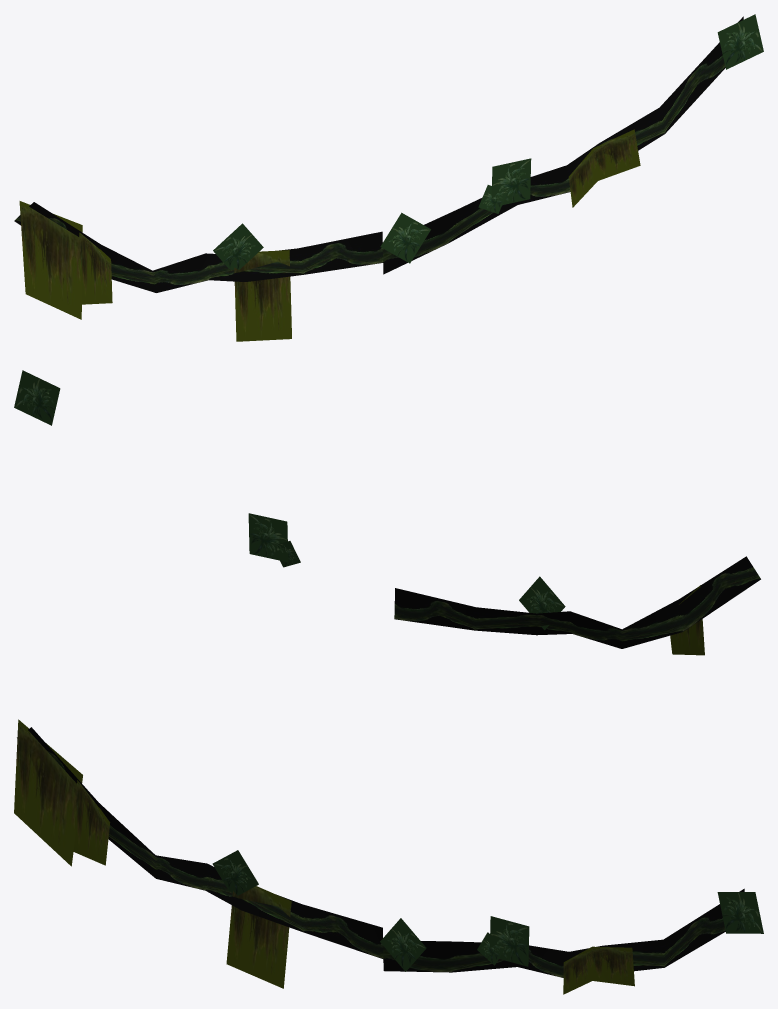
Rendered from jungle_vine_b_200.fbx.
The picture shows the model from 3 angles, top to bottom: view 1: azimuth 30°, elevation 25°; view 2: azimuth 150°, elevation 25°; view 3: azimuth 330°, elevation 25°; orthographic projection.
Visible parts, largest first — view 1: vine, vine2, vine4, vine1, boss, vine3, pPlane16, pPlane14, pPlane11, pPlane15; view 2: vine, pPlane16, pPlane14, pPlane15, vine3; view 3: vine, vine2, vine4, vine1, boss, vine3, pPlane16, pPlane14, pPlane11, pPlane15.
Boxes of the visible parts, left/top/right/bottom form: vine: left=14, top=202, right=383, bottom=292; vine2: left=383, top=16, right=743, bottom=274; vine4: left=19, top=201, right=82, bottom=319; vine1: left=234, top=250, right=291, bottom=341; boss: left=568, top=129, right=640, bottom=207; vine3: left=79, top=230, right=112, bottom=304; pPlane16: left=717, top=14, right=763, bottom=69; pPlane14: left=491, top=158, right=531, bottom=204; pPlane11: left=380, top=212, right=430, bottom=263; pPlane15: left=213, top=223, right=263, bottom=269; vine: left=394, top=556, right=760, bottom=648; pPlane16: left=14, top=370, right=60, bottom=425; pPlane14: left=248, top=513, right=288, bottom=562; pPlane15: left=519, top=576, right=565, bottom=630; vine3: left=670, top=585, right=704, bottom=655; vine: left=17, top=727, right=383, bottom=958; vine2: left=383, top=888, right=744, bottom=977; vine4: left=14, top=719, right=82, bottom=866; vine1: left=226, top=886, right=291, bottom=988; boss: left=563, top=946, right=634, bottom=994; vine3: left=73, top=778, right=110, bottom=865; pPlane16: left=717, top=892, right=763, bottom=933; pPlane14: left=489, top=916, right=529, bottom=966; pPlane11: left=380, top=918, right=426, bottom=971; pPlane15: left=212, top=850, right=258, bottom=895.
Size of the model in its own units: 20966 by 5579 by 367.
Materials: 1 (1 with a texture image).
